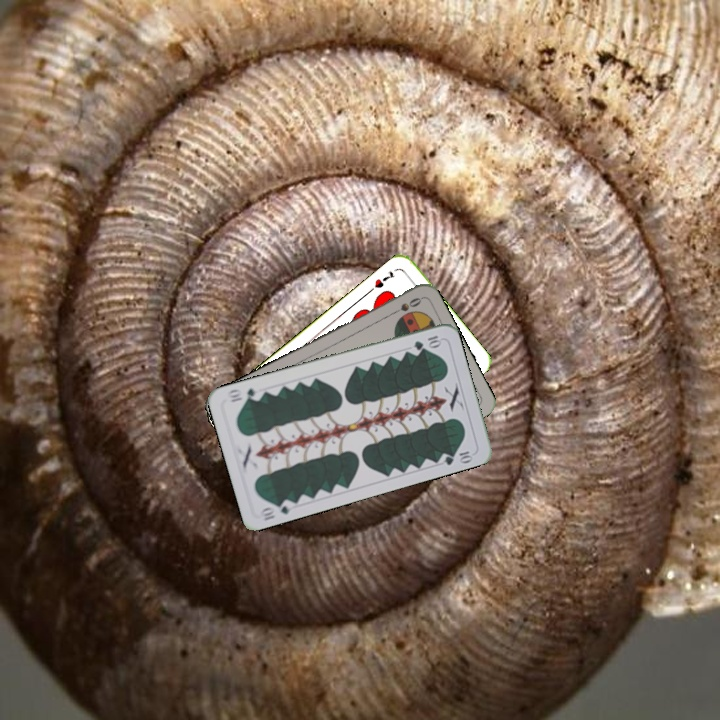G10: (256, 496, 297, 523), (410, 331, 444, 353)
H7: (370, 267, 397, 291)
SO: (386, 293, 424, 318)
